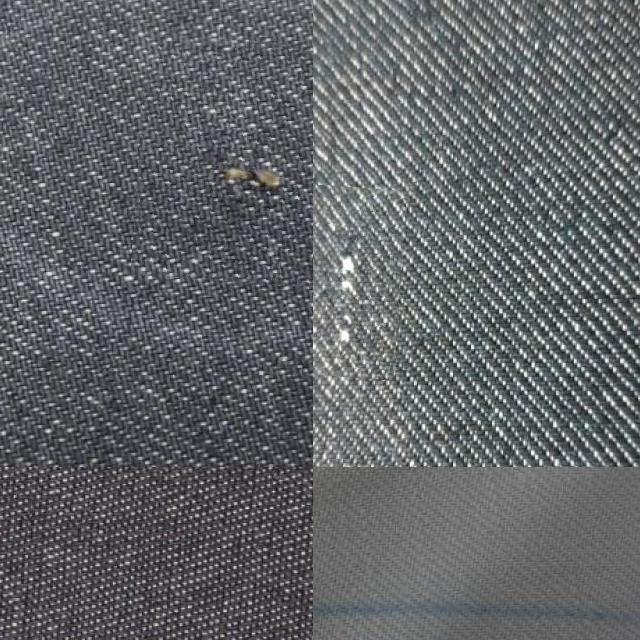stains: (134, 37, 313, 287), (313, 185, 404, 378)
